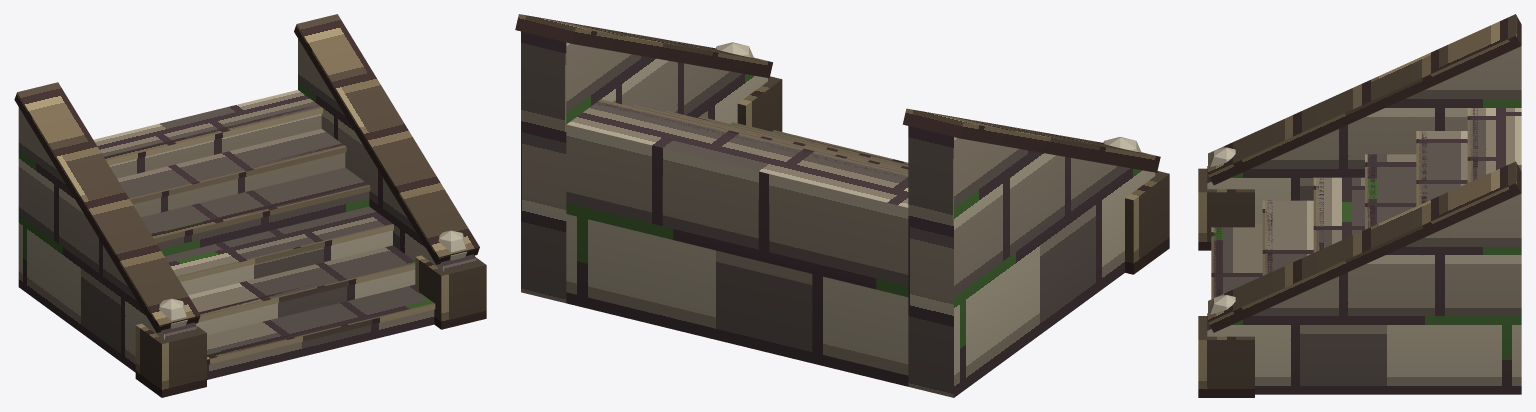
Rendered from stairs_2.4x1.2.glb.
3 renders of one model, left to right at view 1: azimuth 30°, elevation 25°; view 2: azimuth 150°, elevation 25°; view 3: azimuth 270°, elevation 25°, orthographic. The views are drawn at different scales.
Visible parts, largest first — view 1: stairs_2.4x1.2; view 2: stairs_2.4x1.2; view 3: stairs_2.4x1.2.
Boxes of the visible parts, left/top/right/bottom form: stairs_2.4x1.2: left=14, top=14, right=486, bottom=397; stairs_2.4x1.2: left=515, top=14, right=1169, bottom=397; stairs_2.4x1.2: left=1198, top=14, right=1521, bottom=397.
Bounding box in the file's own units: 3.16 × 1.84 × 2.52.
2 materials, 1 textured.
